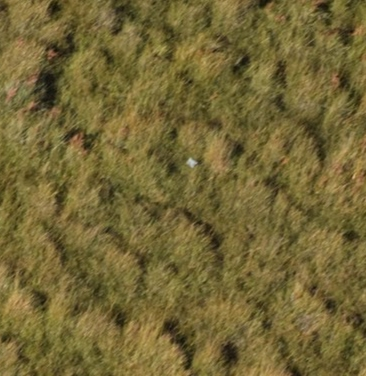white_in_green: (169, 140, 215, 181)
